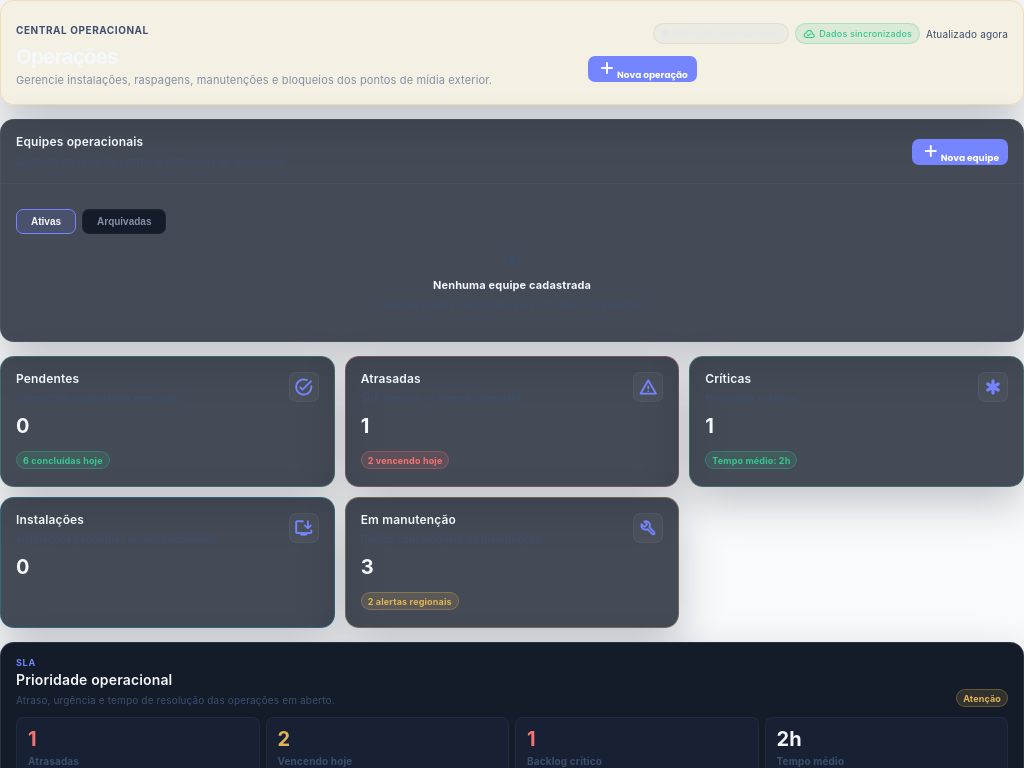
Scenario: OperationsPage smoke › abre o modal redesenhado e oferece a escolha de tipo dentro dele
Click the button "Nova operação".
click(642, 69)  # box [588, 56, 697, 82]
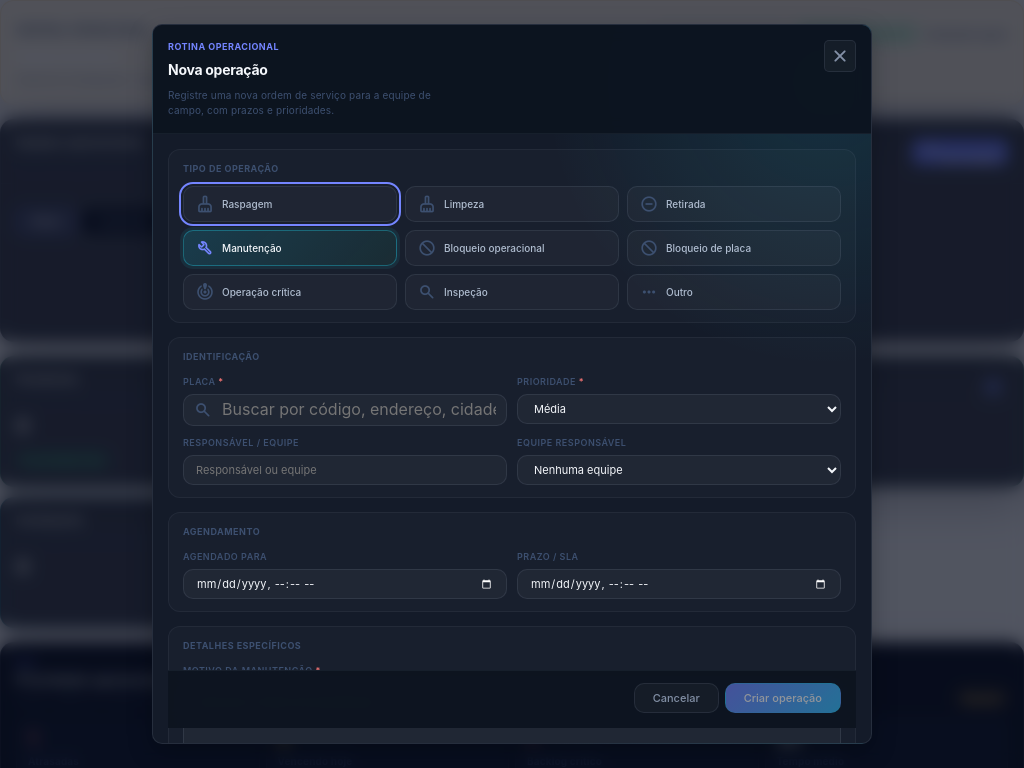
Result: the dialog with test id "operation-form-modal-redesigned" is shown
Result: the text "Tipo de operação" is shown at [183, 163, 279, 174]
Result: the text "Identificação" is shown at [183, 351, 260, 362]
